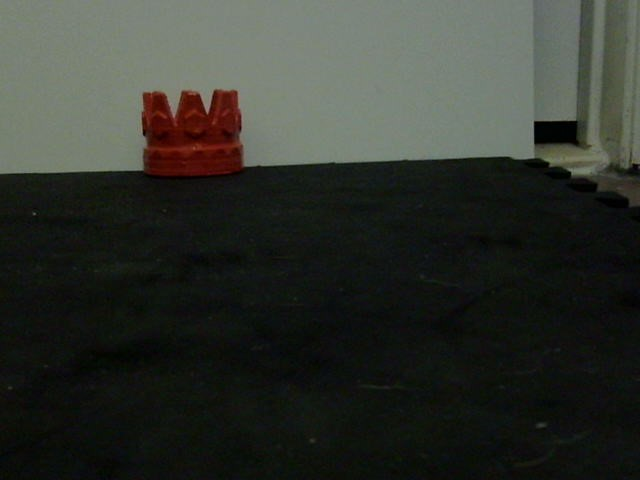crown: (139, 87, 244, 180)
